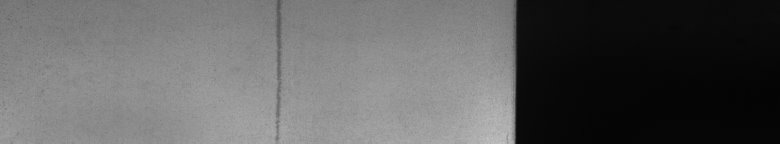hd: (272, 4, 285, 136)
